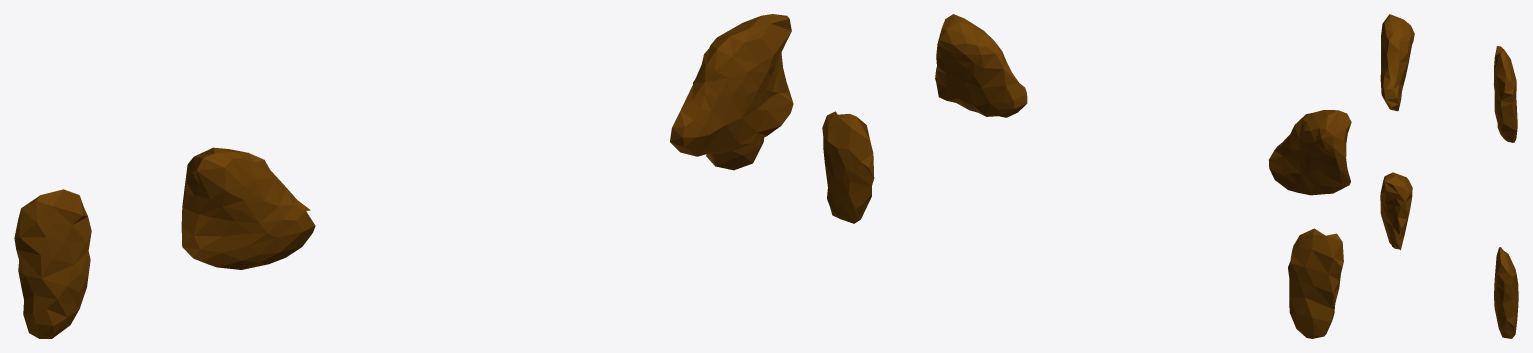
The model's file is 121-13-area 13 of cortex-('0.4980', '0.2863', '0.0000').obj.
3 views of the same model, side by side, from view 1: azimuth 30°, elevation 25°; view 2: azimuth 150°, elevation 25°; view 3: azimuth 270°, elevation 25° (orthographic). The views are drawn at different scales.
Size of the model in its own units: 180 by 55.07 by 48.03.
